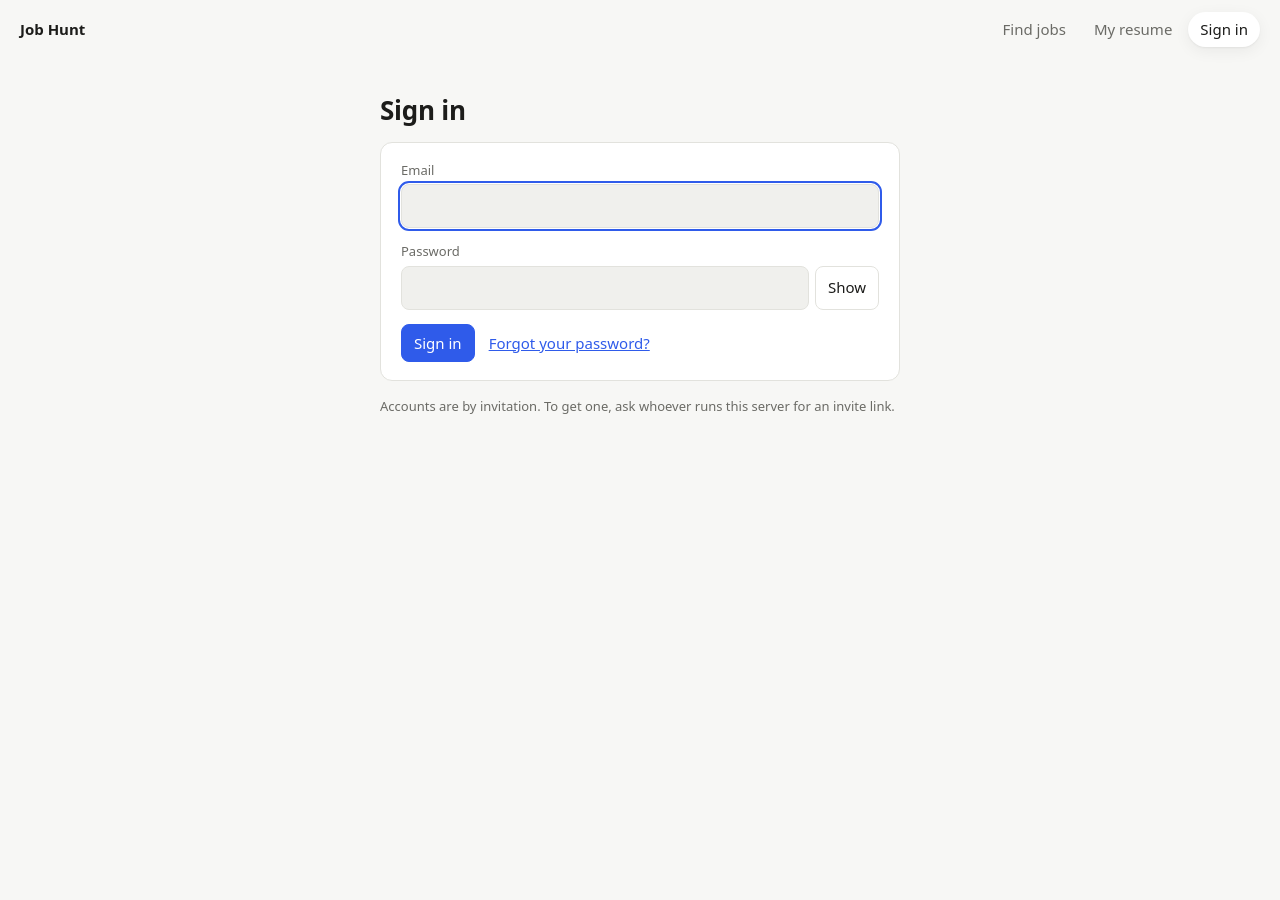
signing in › leads to the recovery page for someone who forgot the password
The image size is (1280, 900).
Click the link "Forgot your password?" at (569, 343), box [489,332,650,354]
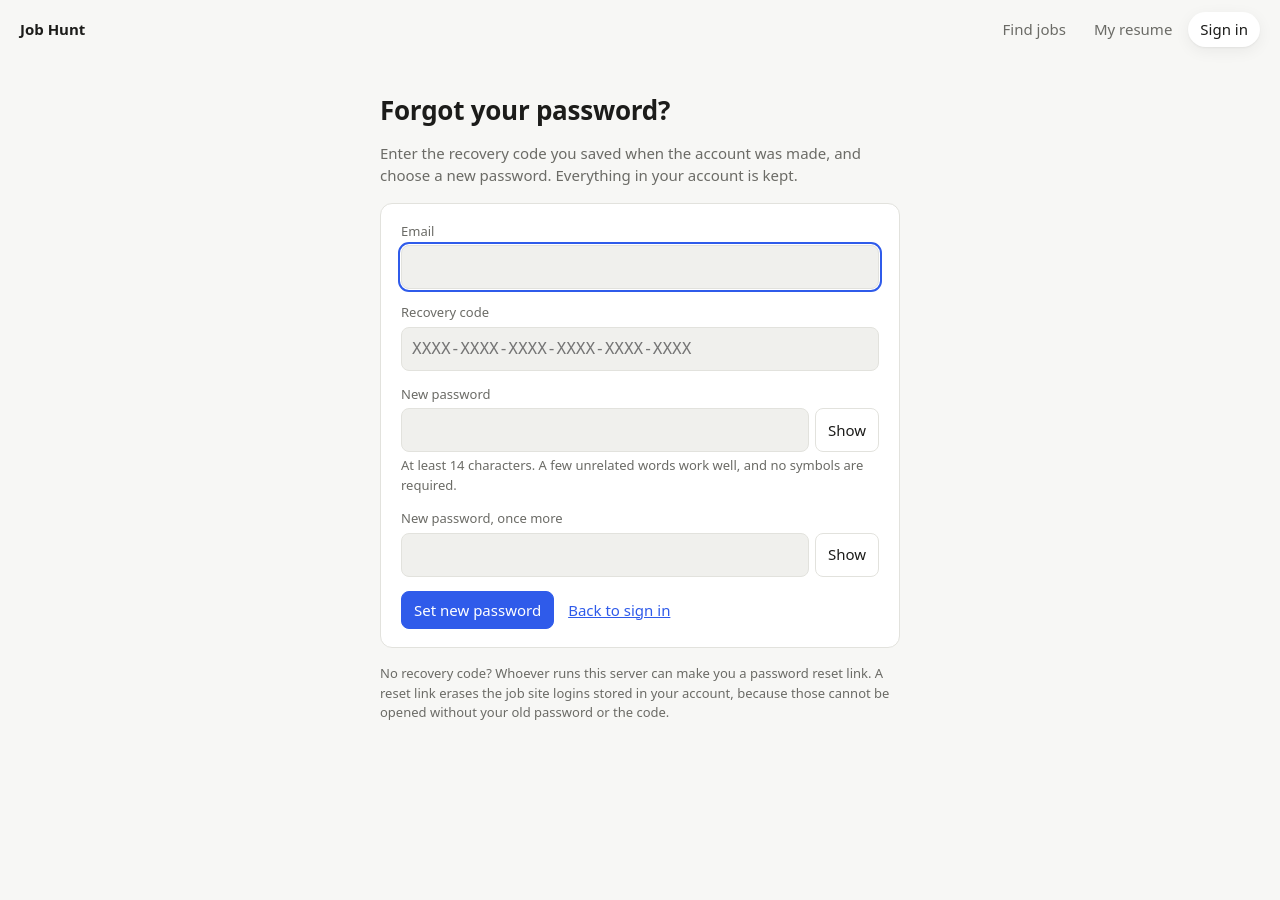
Expected: the heading "Forgot your password?" is shown, [380,92,670,128]
